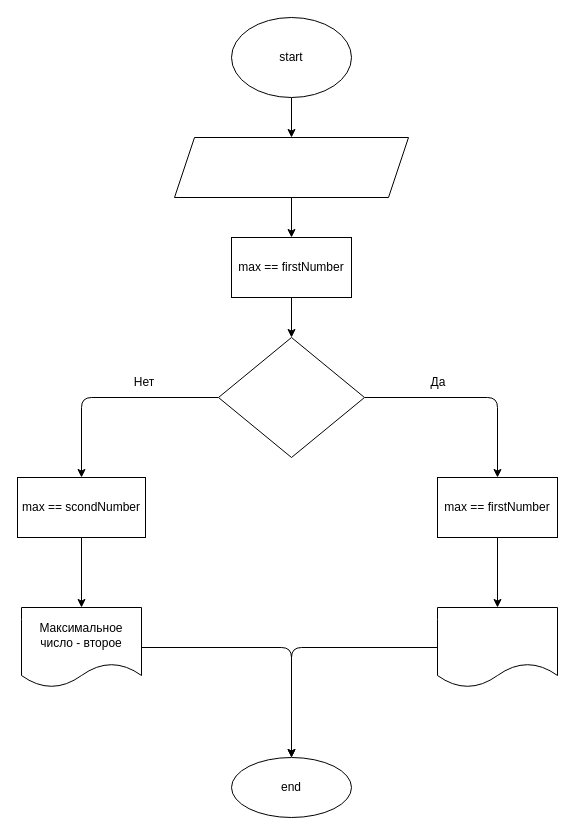
Image size: 575x835. Some labels were removed from this diagram. The shapes that lost their labels are listed below. From the top down, each one's centre as x and y in pixels, then its label:
At (x=291, y=167): "firstNumber secondNumber".
At (x=291, y=397): "firstNumber > secondNumbeer".
At (x=497, y=647): "Максимальное число - первое".
